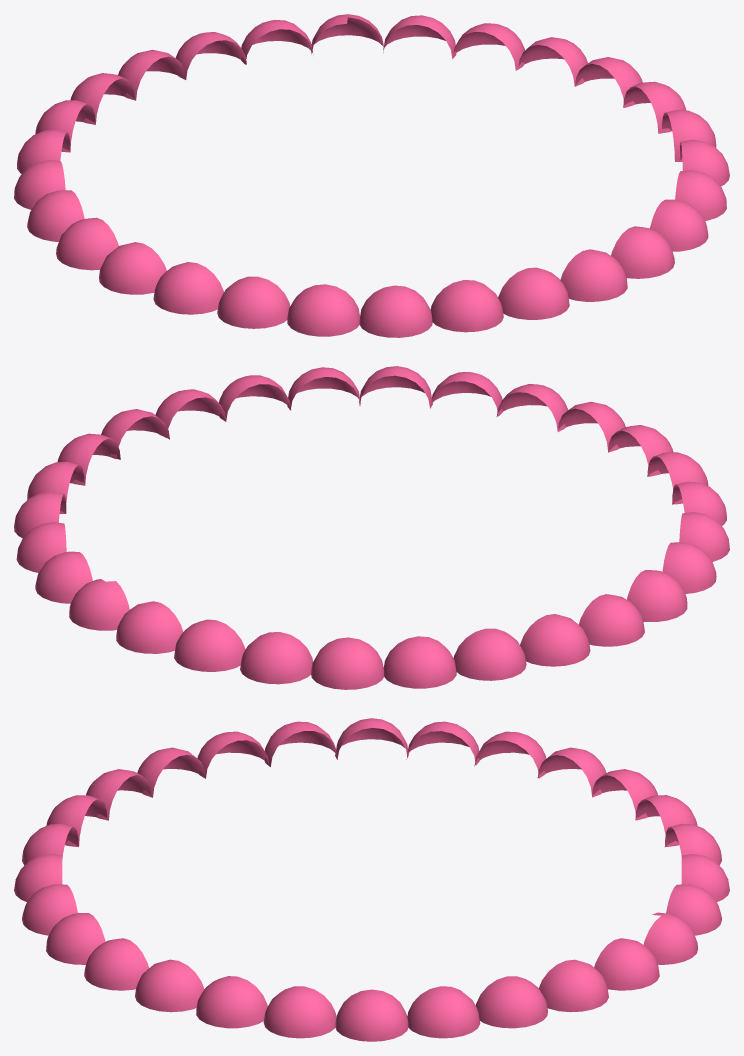
File: Cake_Med_itemsSide_Pearls-A.FBX
The picture shows the model from 3 angles, top to bottom: view 1: azimuth 30°, elevation 25°; view 2: azimuth 150°, elevation 25°; view 3: azimuth 270°, elevation 25°; orthographic projection.
Parts seen in each view (by area): view 1: Cake_Med_itemsSide_Pearls-A; view 2: Cake_Med_itemsSide_Pearls-A; view 3: Cake_Med_itemsSide_Pearls-A.
Part boxes in pixels (bbox=[...]): Cake_Med_itemsSide_Pearls-A: bbox=[14, 14, 729, 337]; Cake_Med_itemsSide_Pearls-A: bbox=[14, 366, 729, 689]; Cake_Med_itemsSide_Pearls-A: bbox=[14, 718, 729, 1041].
Size of the model in its own units: 8247 by 426 by 8247.
